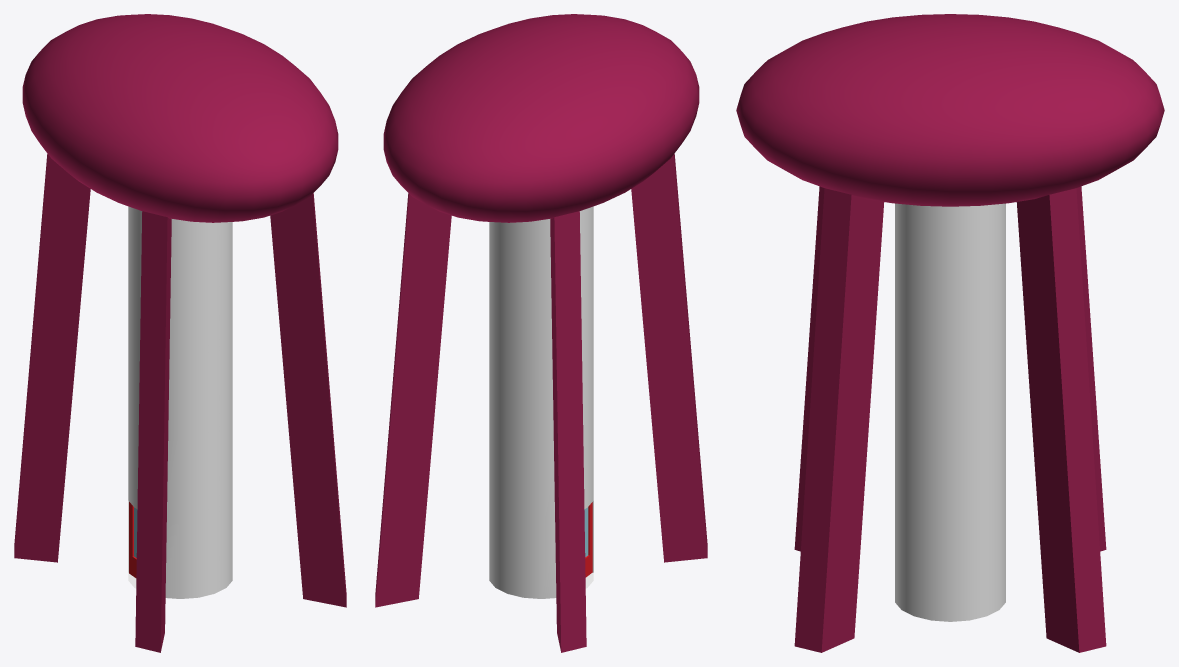
The model's file is 外星房屋3.fbx.
3 views of the same model, side by side, from view 1: azimuth 30°, elevation 25°; view 2: azimuth 150°, elevation 25°; view 3: azimuth 270°, elevation 25° (orthographic). The views are drawn at different scales.
Visible parts, largest first — view 1: 外星建築3頂部, 外星建築3, 外星建築3門; view 2: 外星建築3頂部, 外星建築3, 外星建築3門; view 3: 外星建築3頂部, 外星建築3.
Boxes of the visible parts, x1,y1,x2,y2 form: 外星建築3頂部: [14, 14, 346, 652]; 外星建築3: [128, 206, 232, 598]; 外星建築3門: [129, 502, 137, 577]; 外星建築3頂部: [375, 14, 707, 652]; 外星建築3: [489, 206, 593, 598]; 外星建築3門: [584, 502, 592, 577]; 外星建築3頂部: [736, 14, 1164, 652]; 外星建築3: [895, 203, 1005, 621].
Size of the model in its own units: 160 by 328 by 227.
Materials: 3 (1 with a texture image).
